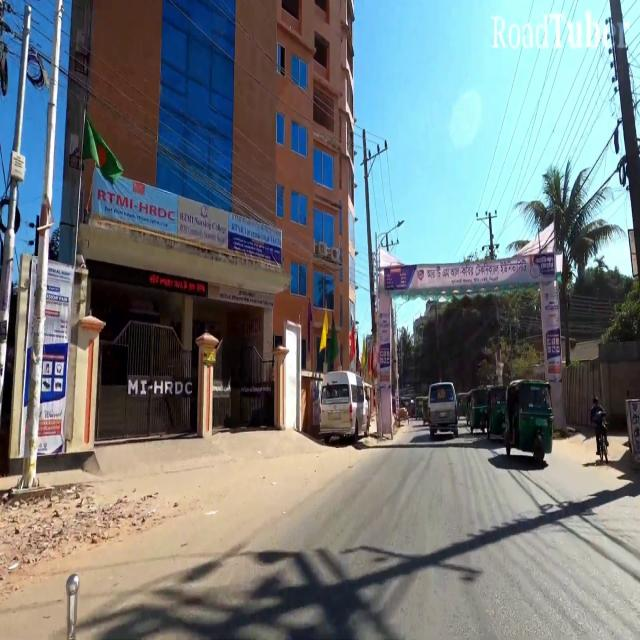white: (319, 367, 372, 452), (427, 375, 460, 444)
